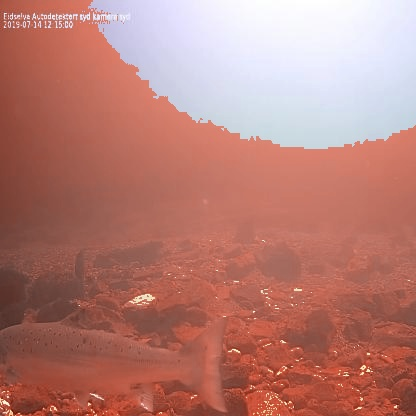salmon: (0, 304, 232, 415)
